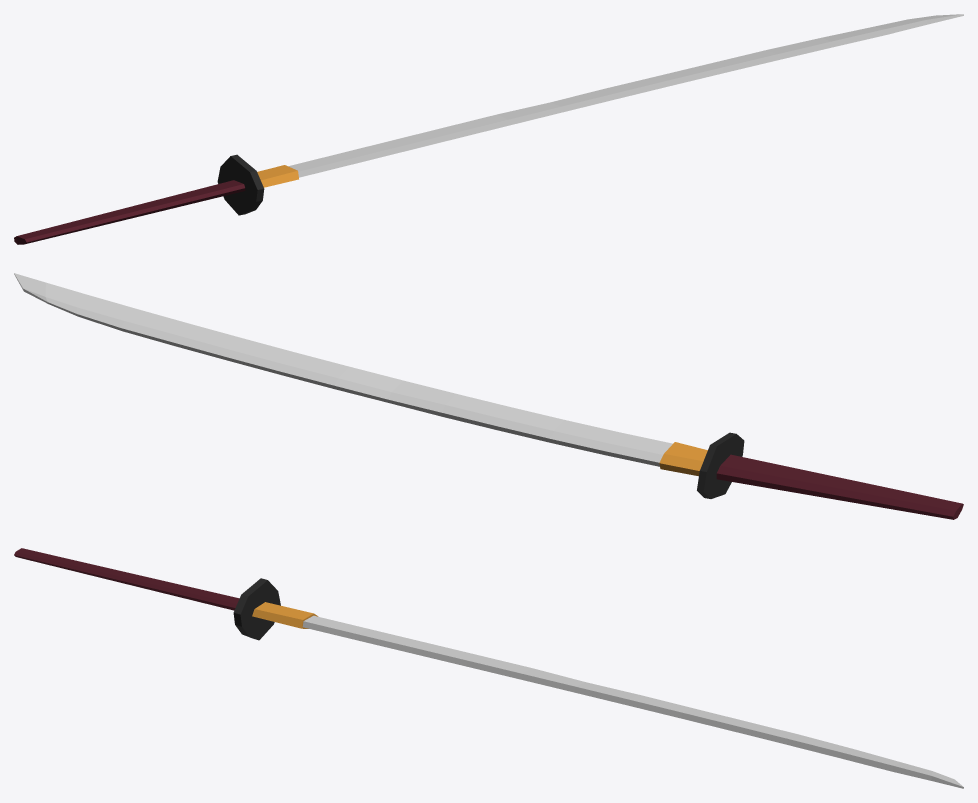
Rendered from katana.fbx.
3 views of the same model, one above another, from view 1: azimuth 30°, elevation 25°; view 2: azimuth 150°, elevation 25°; view 3: azimuth 330°, elevation 25° (orthographic).
Parts seen in each view (by area): view 1: Cube.003; view 2: Cube.003; view 3: Cube.003.
Part boxes in pixels (x1=…): Cube.003: x1=14, y1=14, x2=963, y2=244; Cube.003: x1=14, y1=273, x2=963, y2=519; Cube.003: x1=14, y1=548, x2=963, y2=788.
Size of the model in its own units: 29250 by 1601 by 2171.
